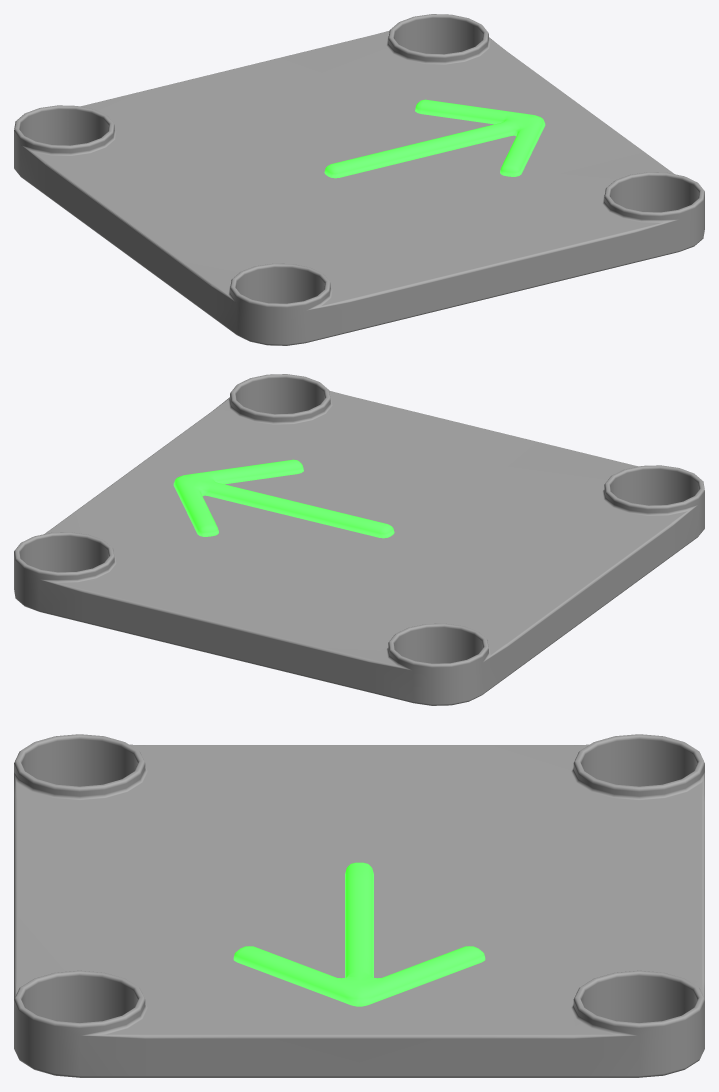
Rendered from Drivetrain_Body.fbx.
The picture shows the model from 3 angles, top to bottom: view 1: azimuth 30°, elevation 25°; view 2: azimuth 150°, elevation 25°; view 3: azimuth 270°, elevation 25°; orthographic projection. The views are drawn at different scales.
Parts seen in each view (by area): view 1: Drivetrain_Body; view 2: Drivetrain_Body; view 3: Drivetrain_Body.
Boxes of the visible parts, x1=… form: Drivetrain_Body: x1=14, y1=14, x2=704, y2=345; Drivetrain_Body: x1=14, y1=374, x2=704, y2=705; Drivetrain_Body: x1=14, y1=734, x2=704, y2=1077.
Size of the model in its own units: 160 by 13.7 by 160.
